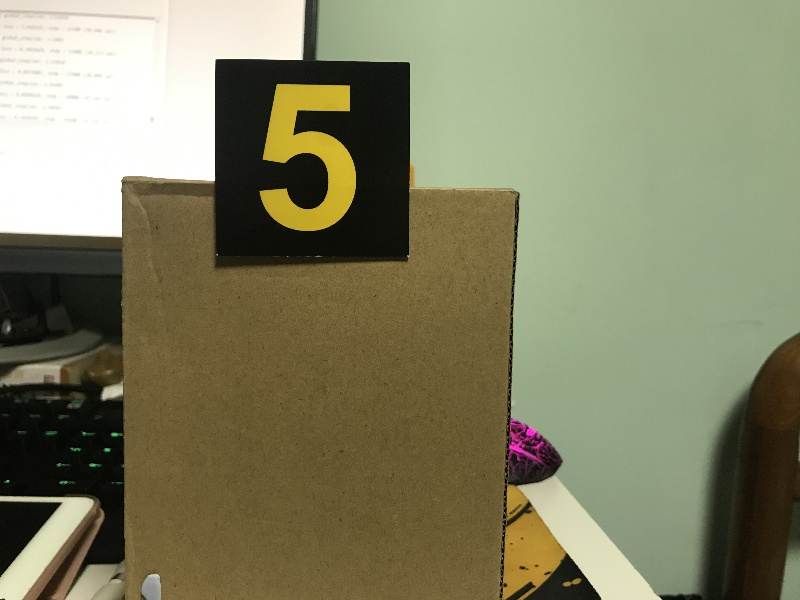Five-10: (217, 62, 408, 255)
